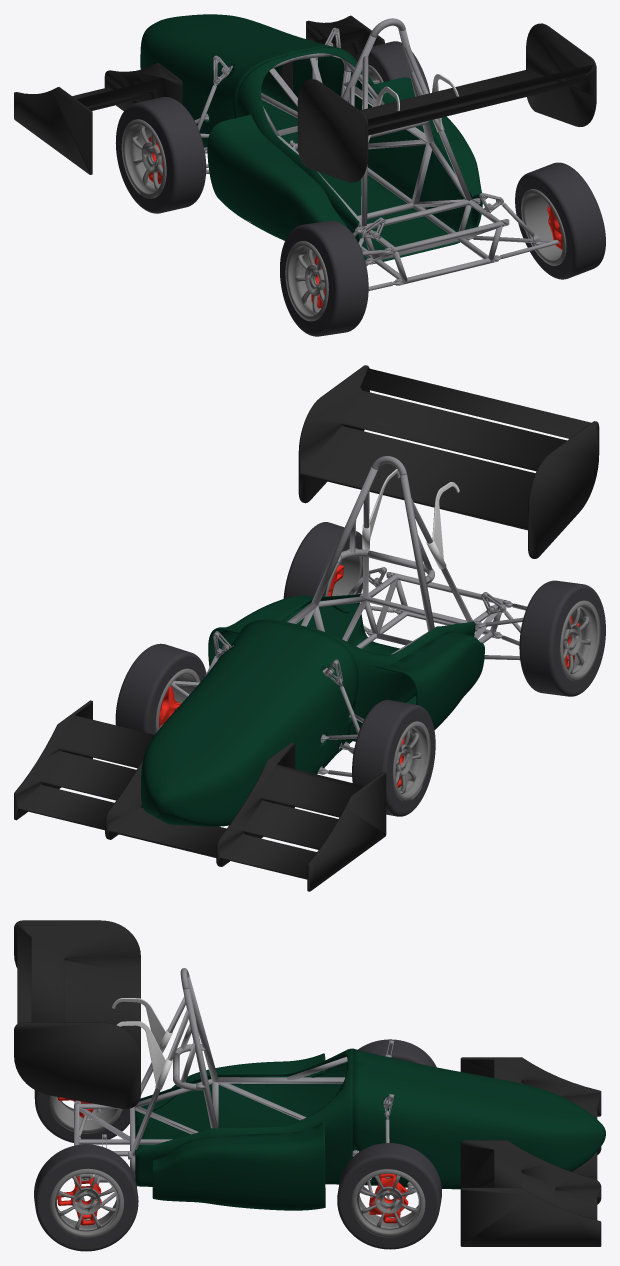
The model's file is sae.gltf.
3 renders of one model, top to bottom at view 1: azimuth 30°, elevation 25°; view 2: azimuth 150°, elevation 25°; view 3: azimuth 270°, elevation 25°, orthographic. The views are drawn at different scales.
Visible parts, largest first — view 1: Mesh_0, Tires, Spoiler, Metal Frame, Front Bumper, Wheels, Calipers; view 2: Mesh_0, Spoiler, Front Bumper, Tires, Metal Frame, Wheels, Calipers; view 3: Mesh_0, Spoiler, Front Bumper, Tires, Metal Frame, Wheels, Calipers.
Part boxes in pixels (x1,y1,x2,y2): Mesh_0: [140, 14, 482, 264]; Tires: [115, 41, 605, 336]; Spoiler: [247, 23, 596, 222]; Metal Frame: [194, 18, 559, 301]; Front Bumper: [14, 15, 384, 174]; Wheels: [121, 64, 566, 321]; Calipers: [145, 136, 562, 308]; Mesh_0: [141, 469, 497, 826]; Spoiler: [298, 365, 599, 558]; Front Bumper: [14, 700, 386, 891]; Tires: [115, 522, 605, 816]; Metal Frame: [160, 456, 568, 776]; Wheels: [155, 548, 600, 801]; Calipers: [159, 565, 579, 787]; Mesh_0: [112, 998, 605, 1210]; Spoiler: [14, 920, 140, 1109]; Front Bumper: [460, 1057, 601, 1246]; Tires: [34, 1039, 441, 1251]; Metal Frame: [74, 968, 414, 1220]; Wheels: [49, 1095, 425, 1238]; Calipers: [57, 1097, 408, 1225].
Size of the model in its own units: 52.29 by 41.44 by 99.63.
